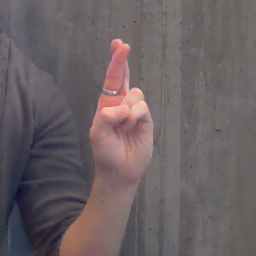R: (85, 36, 158, 181)
